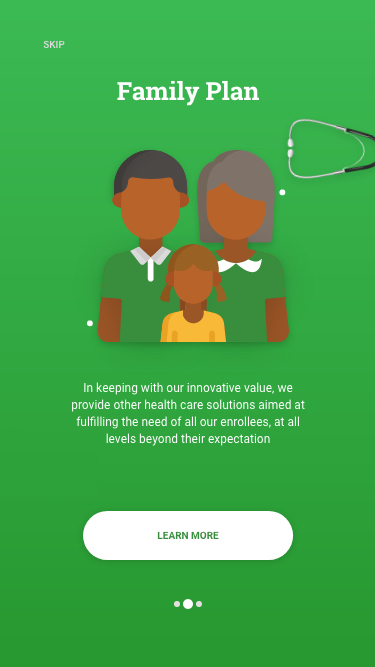Image: (87, 119, 375, 343)
PageIndicator: (174, 598, 203, 610)
Text: (72, 382, 306, 447), (117, 81, 260, 107), (44, 41, 66, 50)
TextButton: (83, 511, 294, 560)
